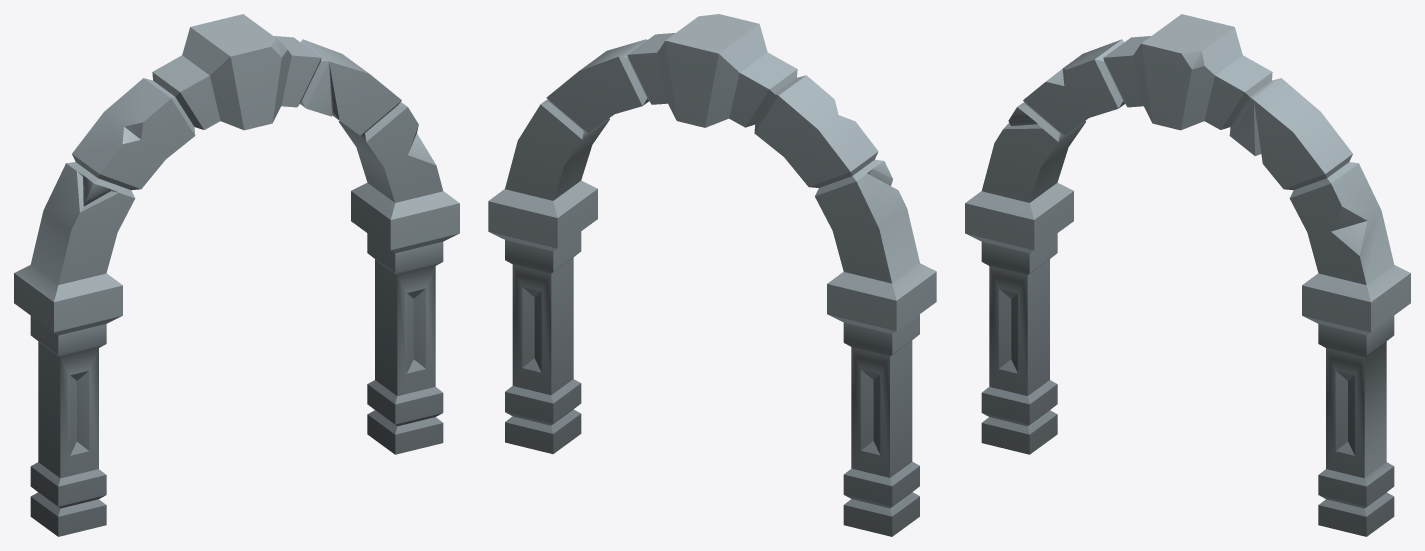
The model's file is arch.obj.
3 views of the same model, side by side, from view 1: azimuth 30°, elevation 25°; view 2: azimuth 150°, elevation 25°; view 3: azimuth 330°, elevation 25° (orthographic).
Parts seen in each view (by area): view 1: arch_Cube.635; view 2: arch_Cube.635; view 3: arch_Cube.635.
Part boxes in pixels (x1=…): arch_Cube.635: x1=14, y1=14, x2=459, y2=536; arch_Cube.635: x1=488, y1=14, x2=936, y2=536; arch_Cube.635: x1=965, y1=14, x2=1410, y2=536.
Size of the model in its own units: 4.22 by 4.41 by 0.7699.
1 material, 1 textured.
